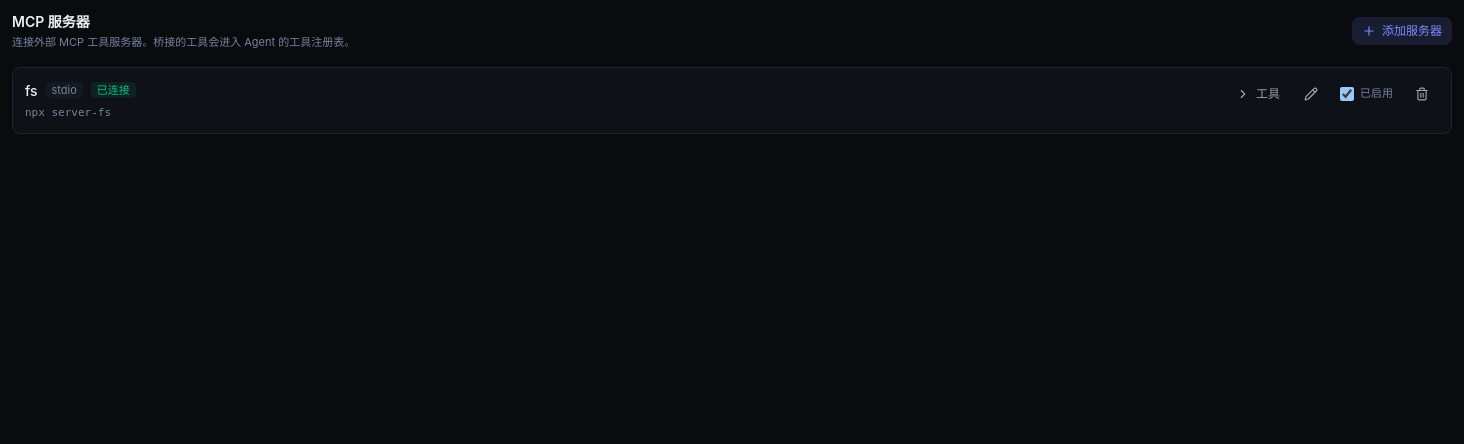
Test case: MCP tool tester (P1-5) › collapses the tester when the test button is clicked again
Expected: the list item with test id "settings-mcp-server-srv_1" is shown, top-left (12, 66), bottom-right (1452, 134)
Click the button with test id "settings-mcp-expand-srv_1".
click(1258, 94)  # box top-left (1226, 80), bottom-right (1290, 108)
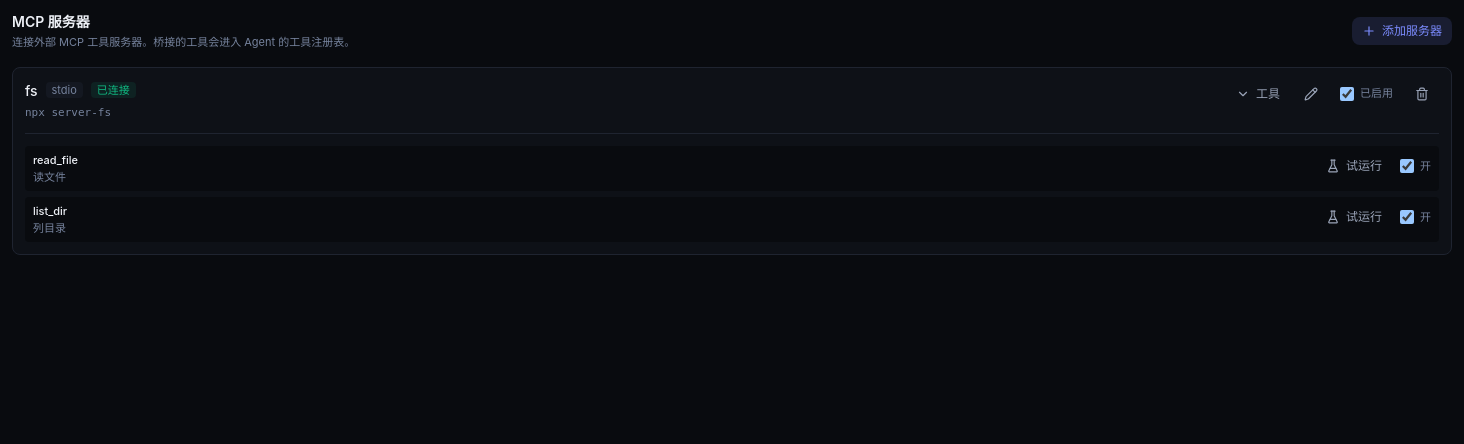
Now the list with test id "settings-mcp-tools-srv_1" is shown, box top-left (25, 146), bottom-right (1439, 242)
Click the button with test id "settings-mcp-test-srv_1-read_file".
click(1354, 166)  # box top-left (1316, 152), bottom-right (1392, 180)
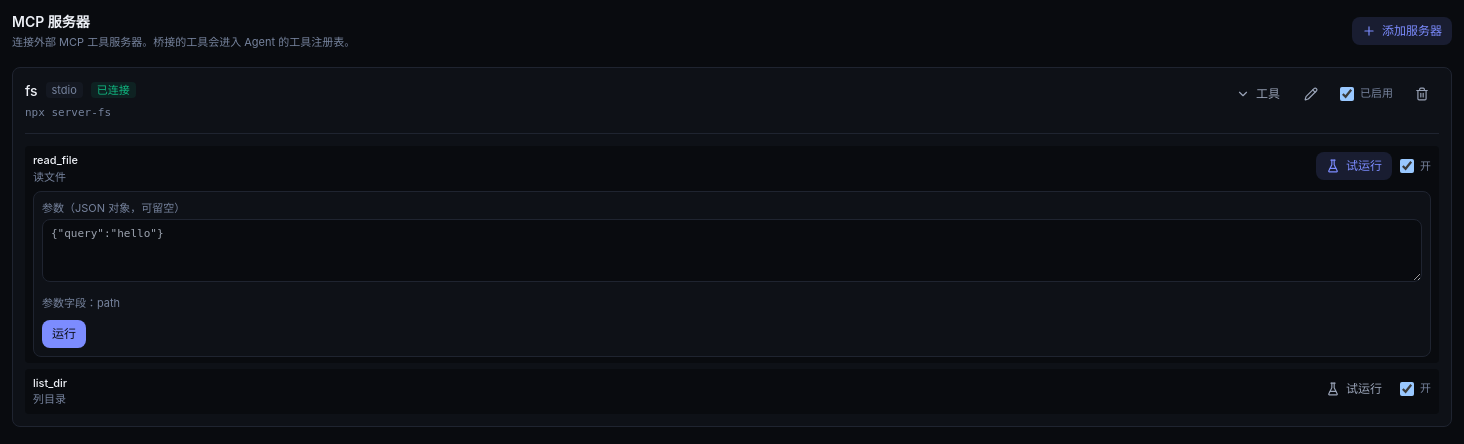
Now the element with test id "settings-mcp-tester-srv_1-read_file" is shown, box top-left (33, 191), bottom-right (1431, 356)
Click the button with test id "settings-mcp-test-srv_1-read_file".
click(1354, 166)  # box top-left (1316, 152), bottom-right (1392, 180)
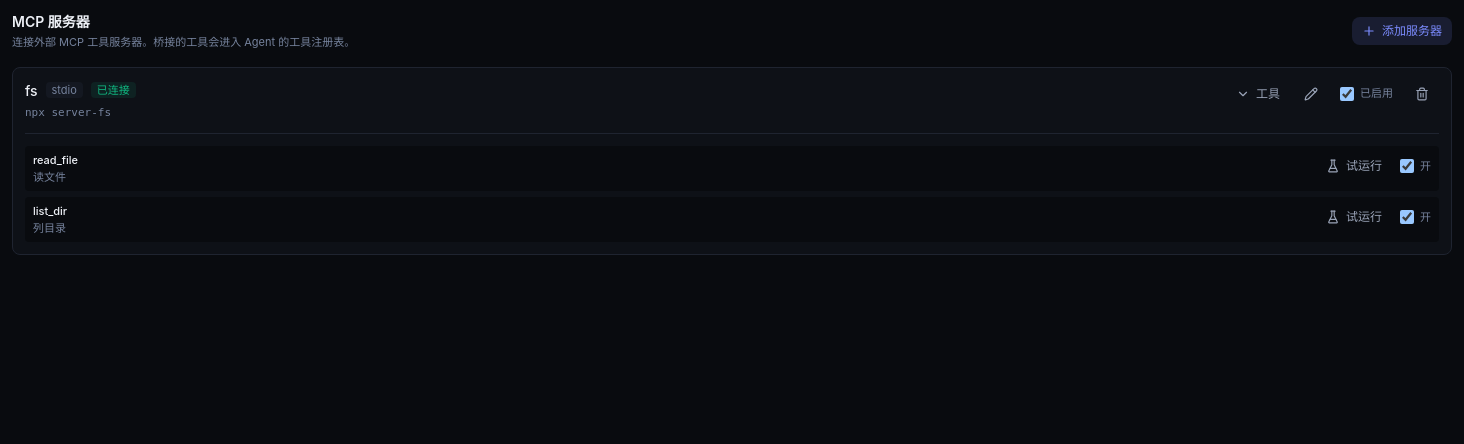
Now the element with test id "settings-mcp-tester-srv_1-read_file" is gone
